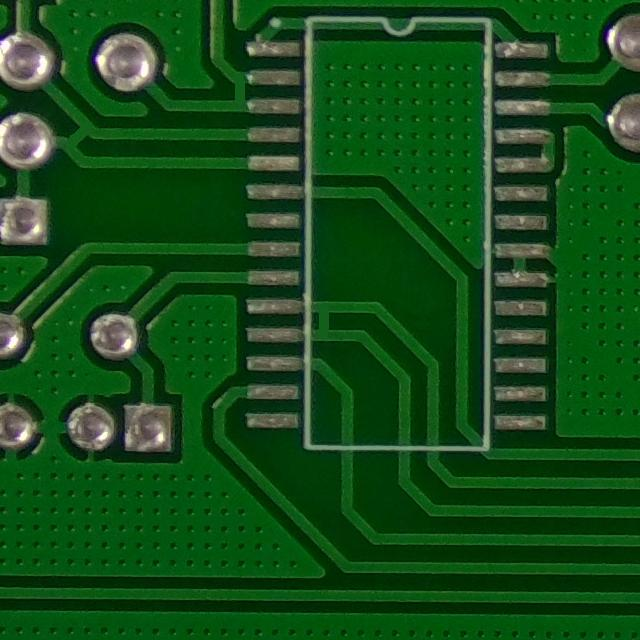short: (300, 293, 341, 347)
